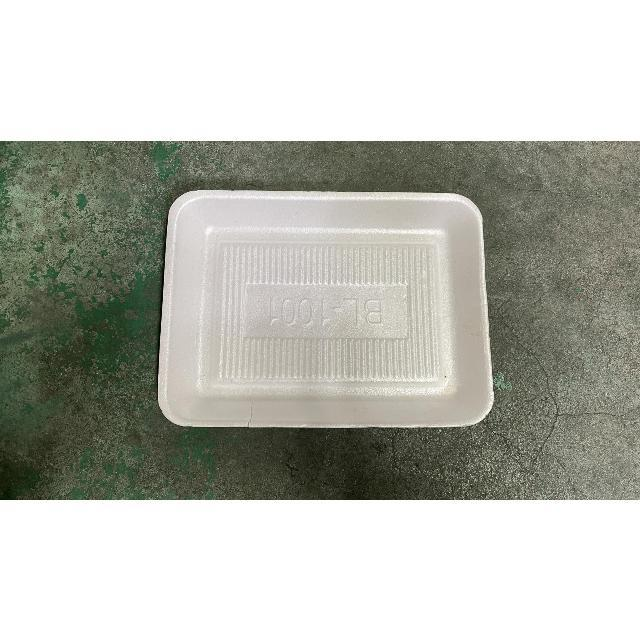Recipiente plastico: (159, 191, 494, 427)
